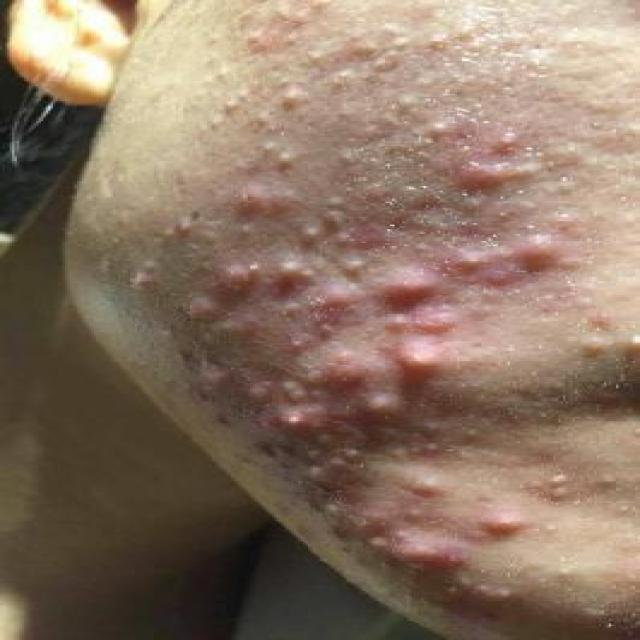Acne: (428, 158, 550, 200), (492, 223, 580, 279), (375, 534, 475, 580), (358, 266, 444, 306), (468, 500, 530, 548), (256, 403, 342, 437), (265, 246, 322, 297), (215, 180, 277, 225), (208, 254, 267, 301), (310, 352, 380, 390), (378, 342, 444, 378), (396, 464, 449, 508), (303, 282, 368, 316), (344, 388, 403, 424), (406, 304, 468, 338), (182, 357, 232, 398), (181, 294, 227, 321), (370, 308, 408, 335)
Whiteheads: (263, 80, 315, 115), (286, 218, 342, 248), (413, 112, 459, 146), (479, 126, 527, 152), (536, 467, 583, 490), (291, 43, 339, 65), (210, 94, 253, 117), (248, 134, 289, 155)
